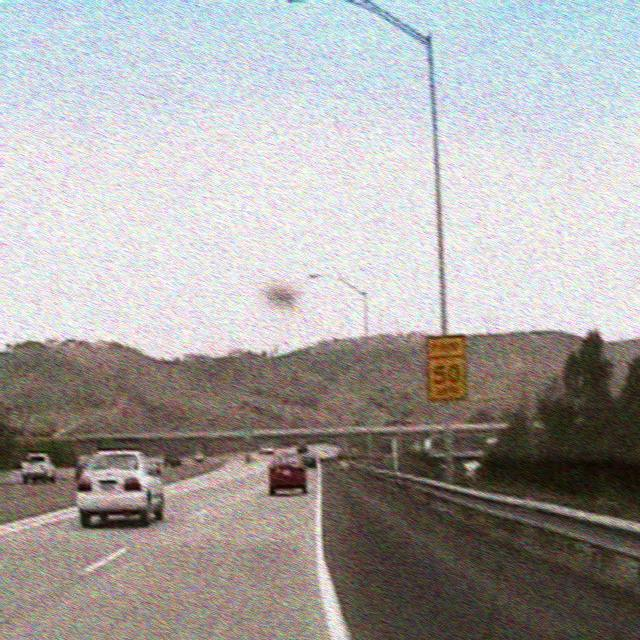speedLimit50: (424, 332, 468, 401)
